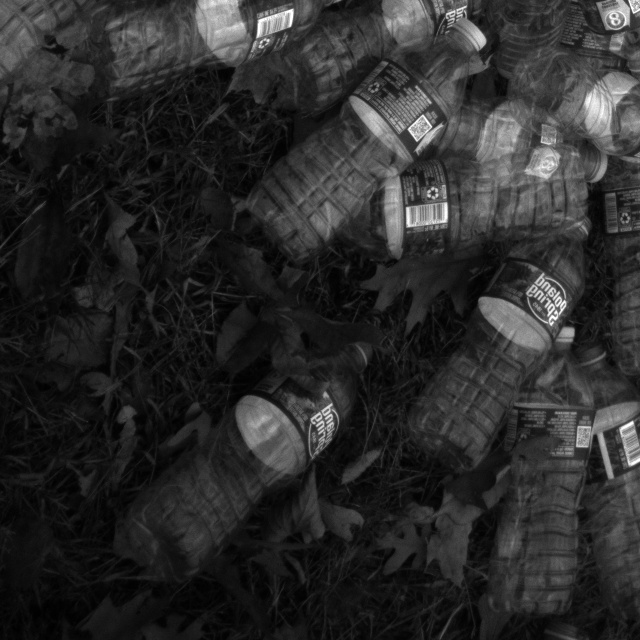bottle: (103, 344, 371, 584), (230, 23, 489, 265), (404, 217, 592, 470), (483, 346, 592, 619), (80, 0, 354, 93), (555, 341, 640, 621), (0, 0, 131, 132), (504, 46, 640, 172), (531, 0, 640, 74)
